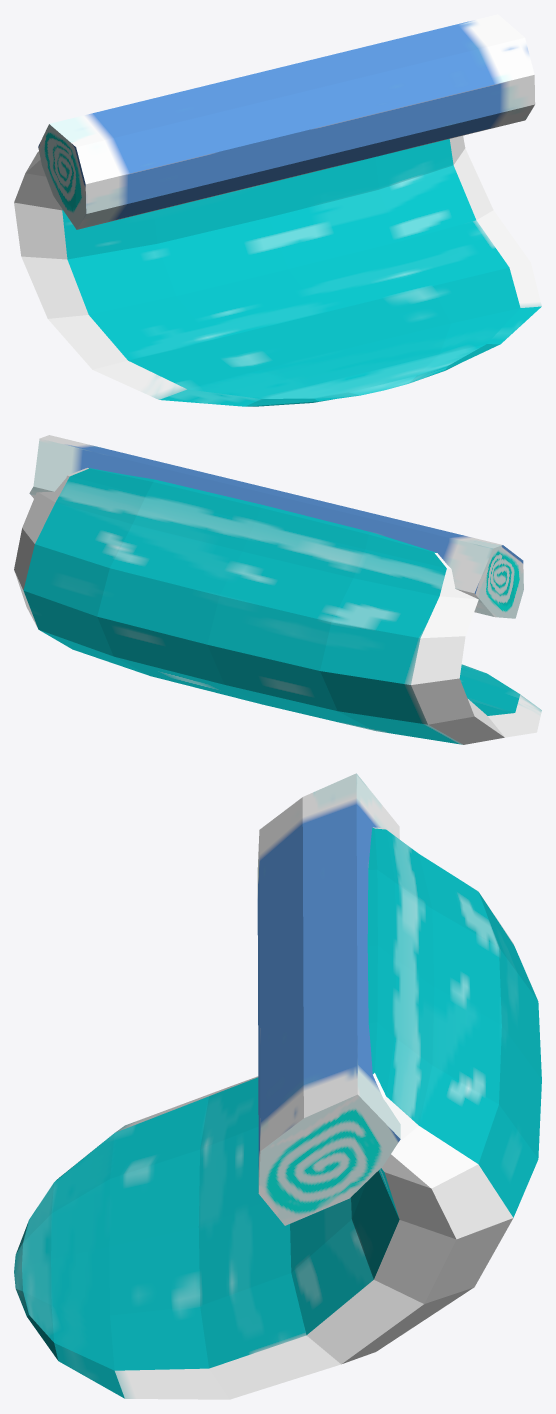
The model's file is WaveWeapon.fbx.
3 renders of one model, top to bottom at view 1: azimuth 30°, elevation 25°; view 2: azimuth 150°, elevation 25°; view 3: azimuth 270°, elevation 25°, orthographic. The views are drawn at different scales.
Visible parts, largest first — view 1: Cube, Cylinder; view 2: Cube, Cylinder; view 3: Cube, Cylinder.
Part boxes in pixels (<box>): Cube: <box>14,135,541,406</box>; Cylinder: <box>38,14,535,229</box>; Cube: <box>14,468,541,744</box>; Cylinder: <box>29,435,523,618</box>; Cube: <box>14,827,541,1399</box>; Cylinder: <box>257,773,400,1225</box>.
Bounding box in the file's own units: 199 × 97.74 × 134.
2 materials, 2 textured.
